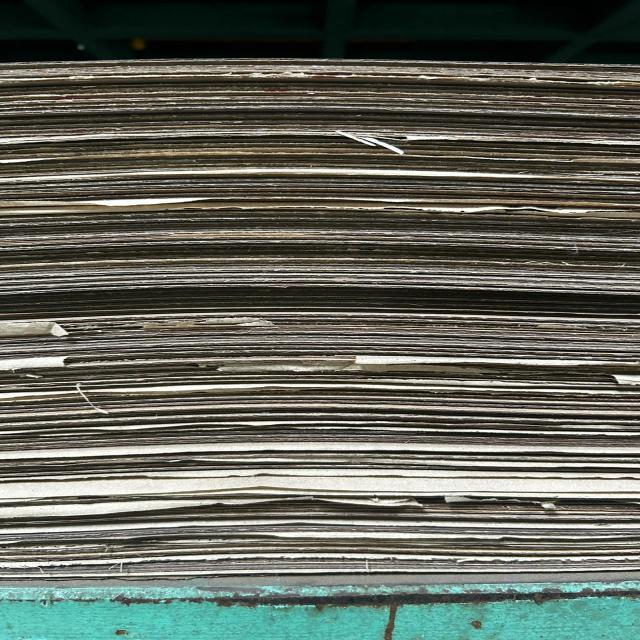sheet: (2, 209, 640, 233), (4, 257, 636, 280), (0, 475, 640, 497), (2, 153, 640, 175), (0, 105, 640, 125), (0, 233, 640, 252), (0, 183, 640, 202), (2, 378, 638, 397), (2, 82, 640, 100), (2, 410, 638, 428), (4, 260, 634, 278), (4, 308, 640, 325), (0, 512, 640, 528), (0, 492, 640, 508), (0, 328, 640, 344), (0, 288, 640, 304), (2, 130, 640, 146), (6, 540, 640, 555), (0, 458, 640, 472), (0, 344, 637, 357), (2, 436, 640, 446), (0, 65, 633, 75), (6, 556, 640, 565), (0, 567, 640, 573)
